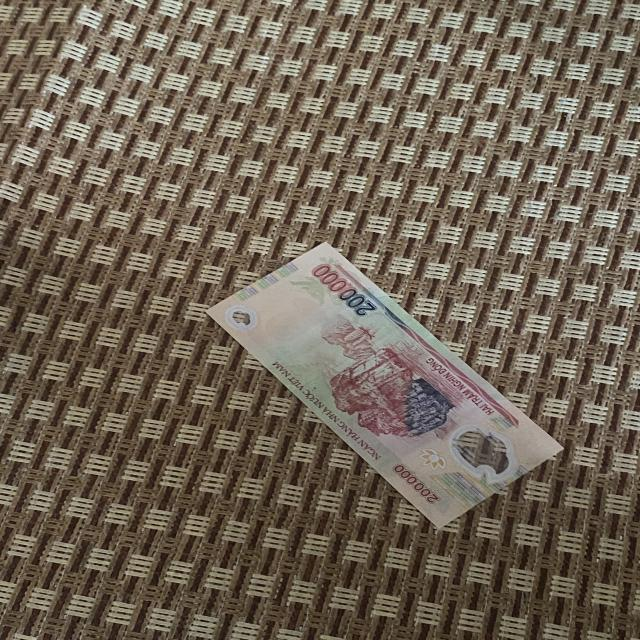200 000 VND: (204, 240, 566, 530)
